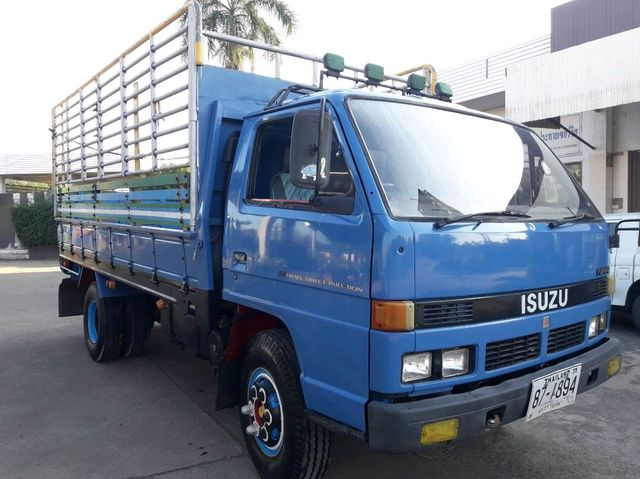truck: (57, 67, 623, 454)
